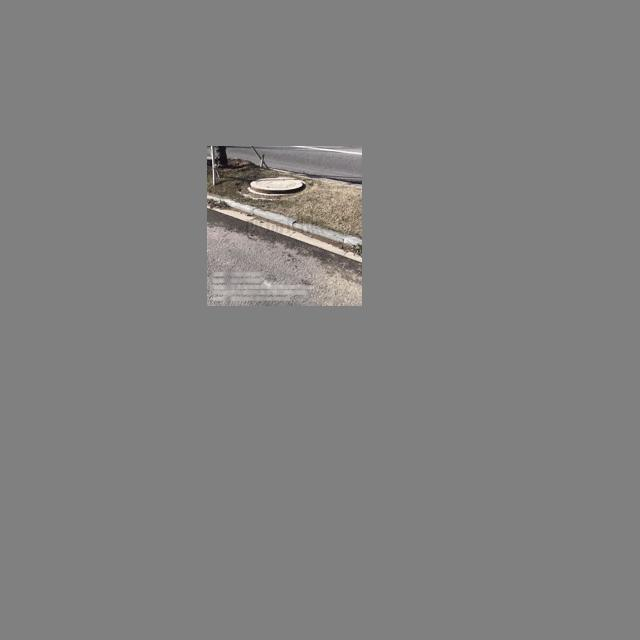uncovered: (247, 176, 303, 195)
